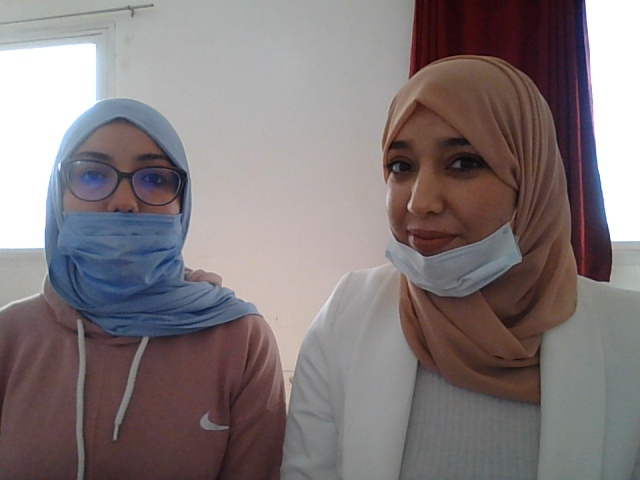mask_weared_incorrect: (354, 82, 539, 297), (38, 99, 207, 316)
